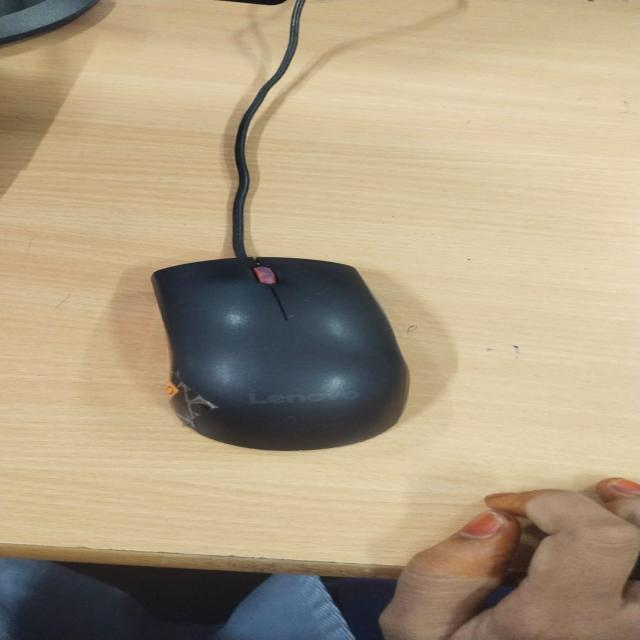mouse: (138, 249, 458, 442)
